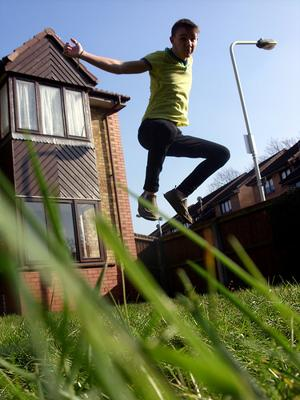person: (66, 18, 230, 223)
